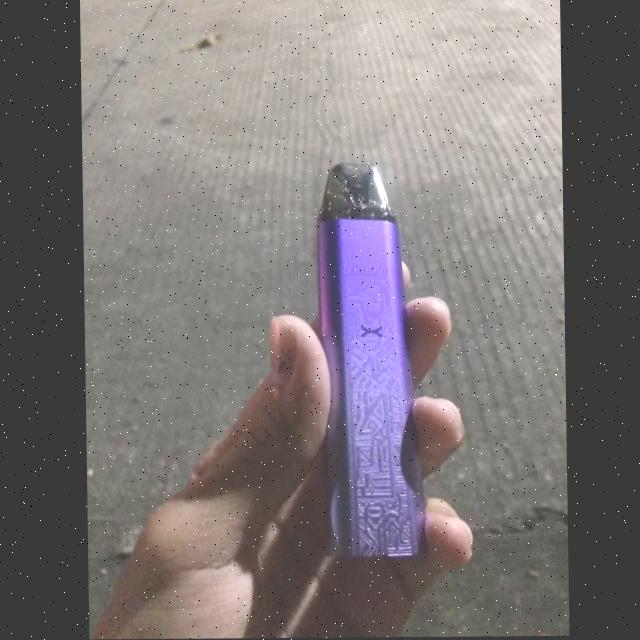vape: (314, 166, 425, 566)
